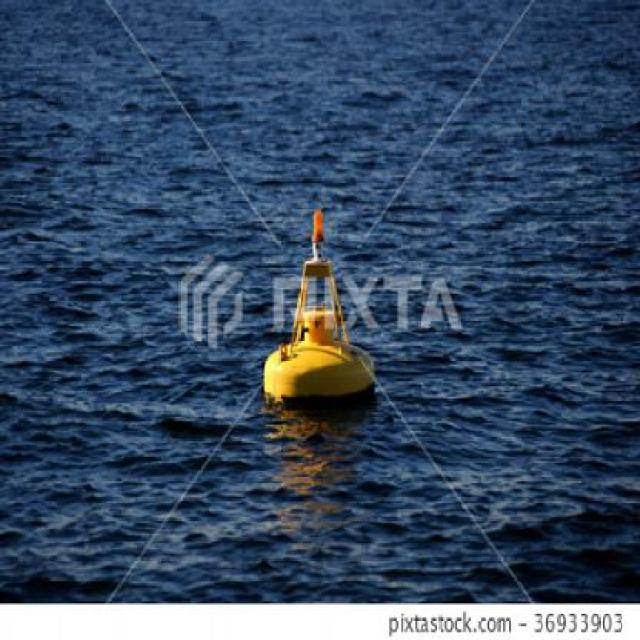a: (247, 204, 387, 412)
